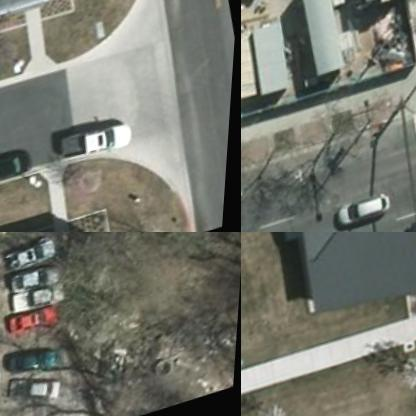car: (60, 124, 136, 172), (3, 344, 68, 392), (4, 372, 70, 415), (0, 242, 63, 284), (2, 308, 66, 348), (6, 286, 70, 326), (4, 266, 68, 306), (335, 192, 400, 231), (0, 143, 40, 198)
